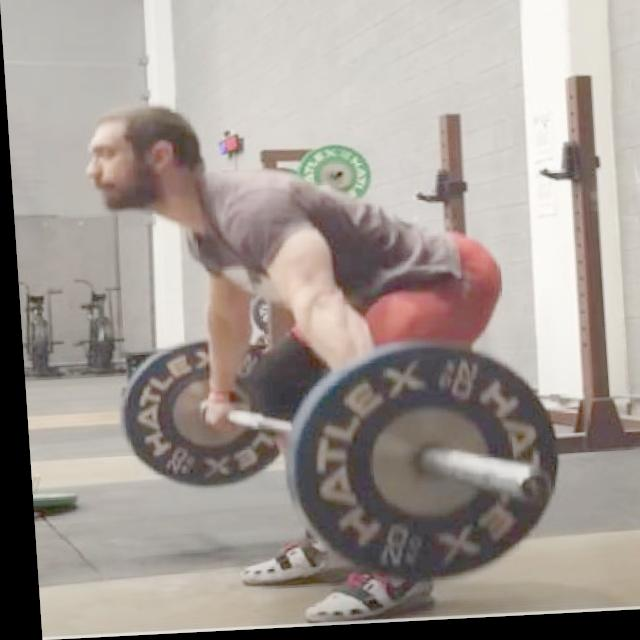barbell: (267, 335, 567, 598), (330, 174, 347, 186)
